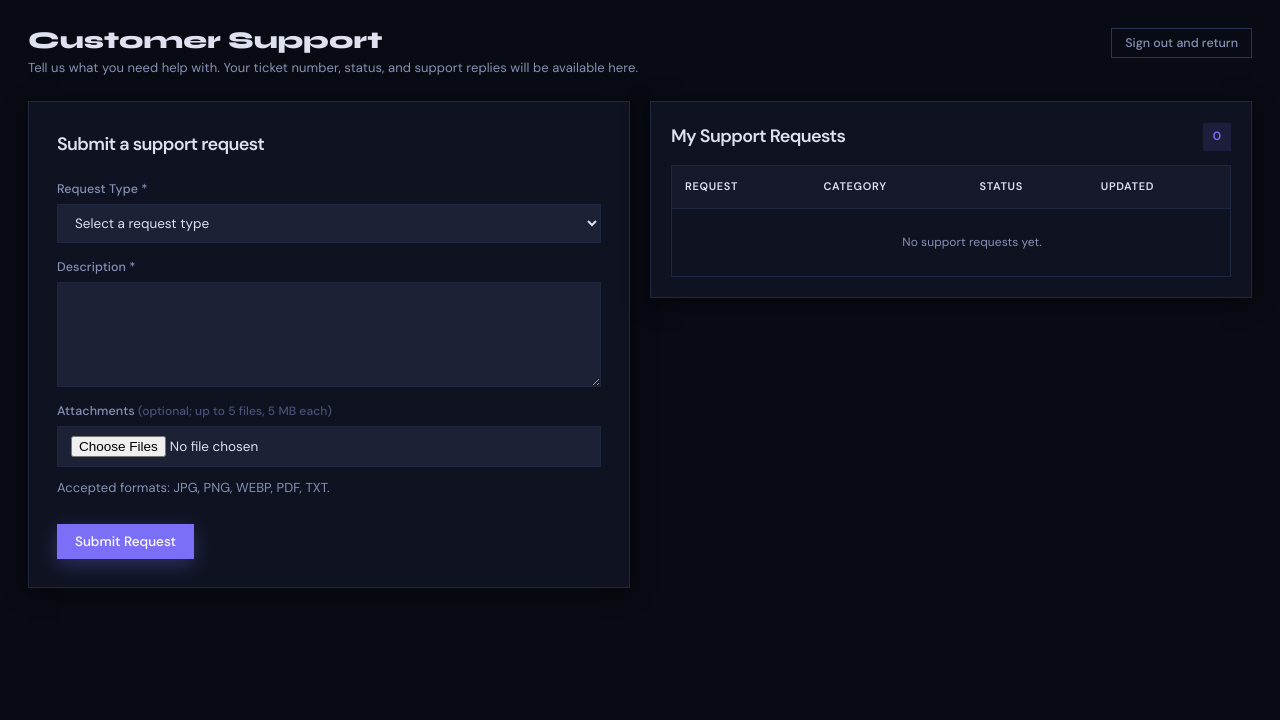
Test: React Customer Support › validates required fields without posting a request
Click the button "Submit Request" at (126, 542), box [57,524,194,559]
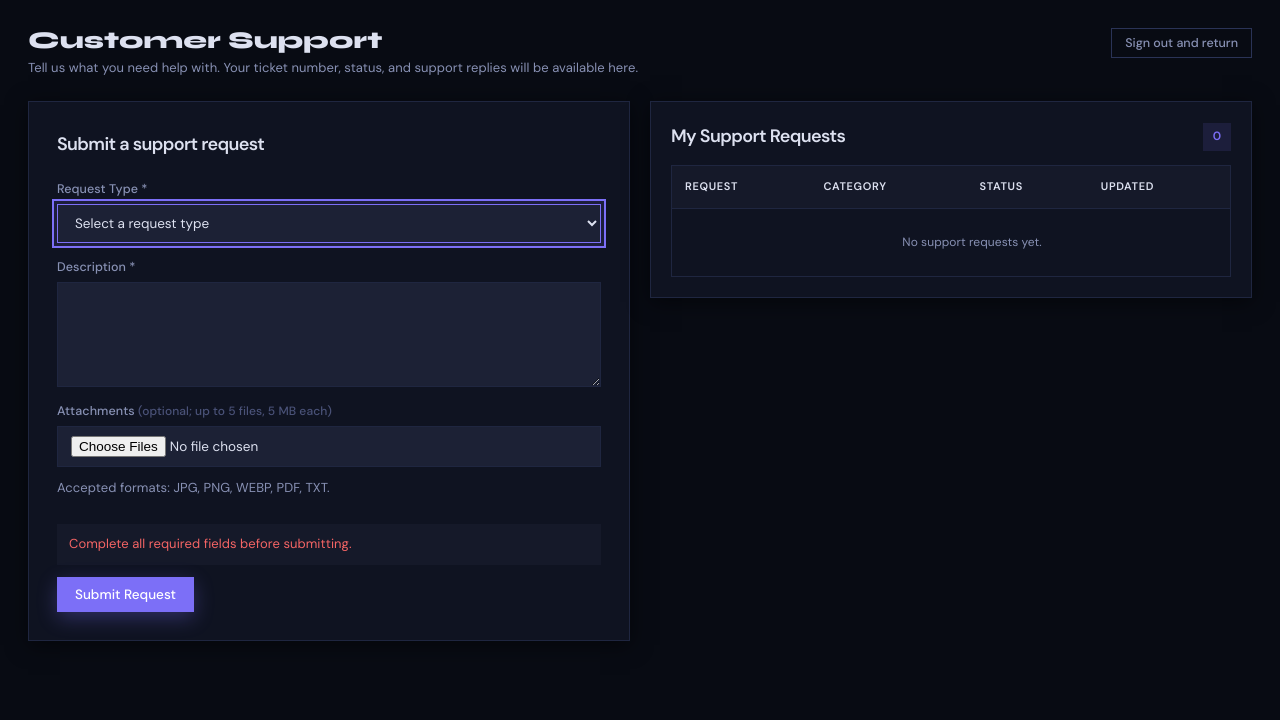
Result: the text "Complete all required fields before submitting." is shown at [57,524,601,565]
